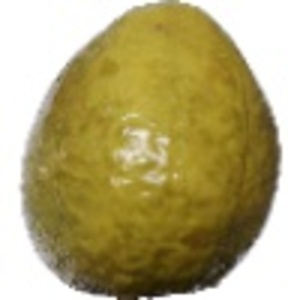goiaba: (10, 5, 285, 292)
